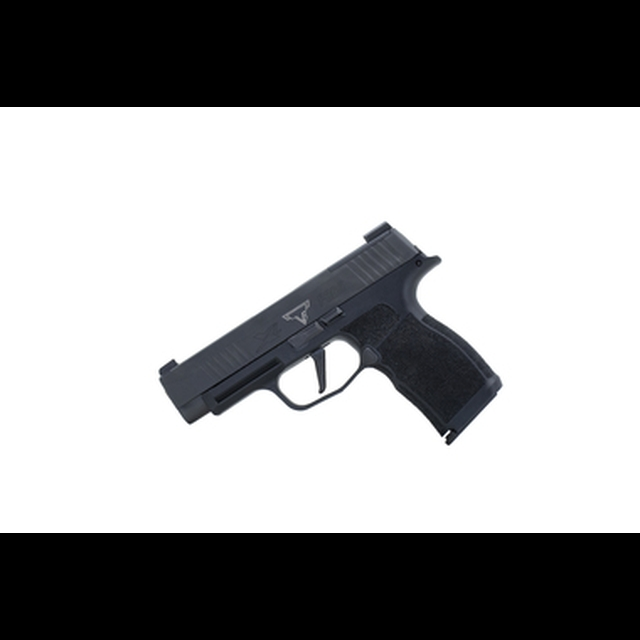SILAH: (151, 218, 503, 447)
